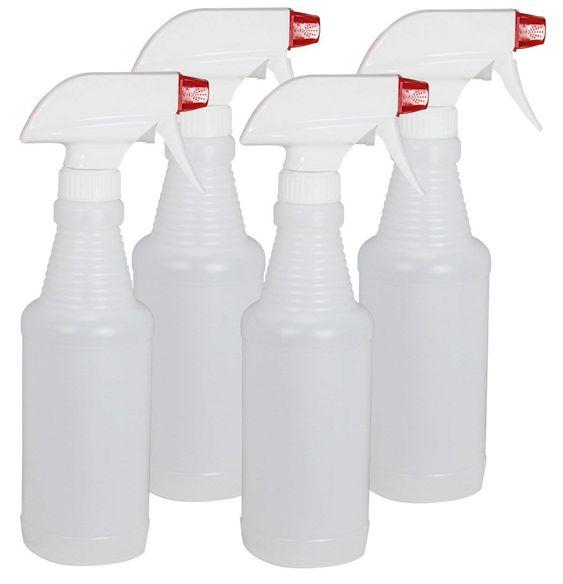HDPE: (0, 45, 233, 584), (232, 65, 456, 576)
